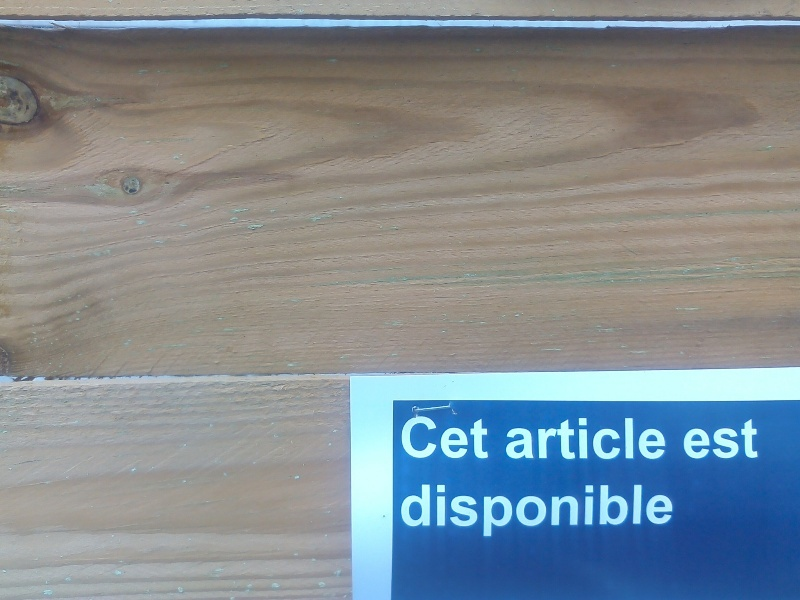text: (401, 484, 416, 537), (417, 484, 432, 537), (433, 484, 448, 537), (449, 484, 464, 537), (465, 484, 480, 537), (481, 484, 496, 537), (497, 484, 512, 537), (513, 484, 528, 537), (529, 484, 544, 537), (545, 484, 560, 537), (561, 484, 576, 537), (577, 484, 592, 537), (593, 484, 608, 537), (609, 484, 624, 537), (625, 484, 640, 537), (641, 484, 656, 537), (657, 484, 672, 537), (401, 416, 416, 460), (417, 416, 432, 460), (433, 416, 448, 460), (449, 416, 464, 460), (465, 416, 480, 460), (513, 417, 528, 461), (529, 417, 544, 461), (545, 417, 560, 461), (561, 417, 576, 461), (577, 417, 592, 461), (593, 417, 608, 461), (609, 417, 624, 461), (625, 417, 640, 461), (641, 417, 656, 461), (689, 418, 704, 460), (705, 418, 720, 460), (721, 418, 736, 460), (737, 418, 752, 460), (657, 417, 667, 461), (481, 416, 489, 460), (506, 417, 512, 461), (753, 418, 758, 460), (685, 418, 688, 460), (673, 484, 674, 537)
